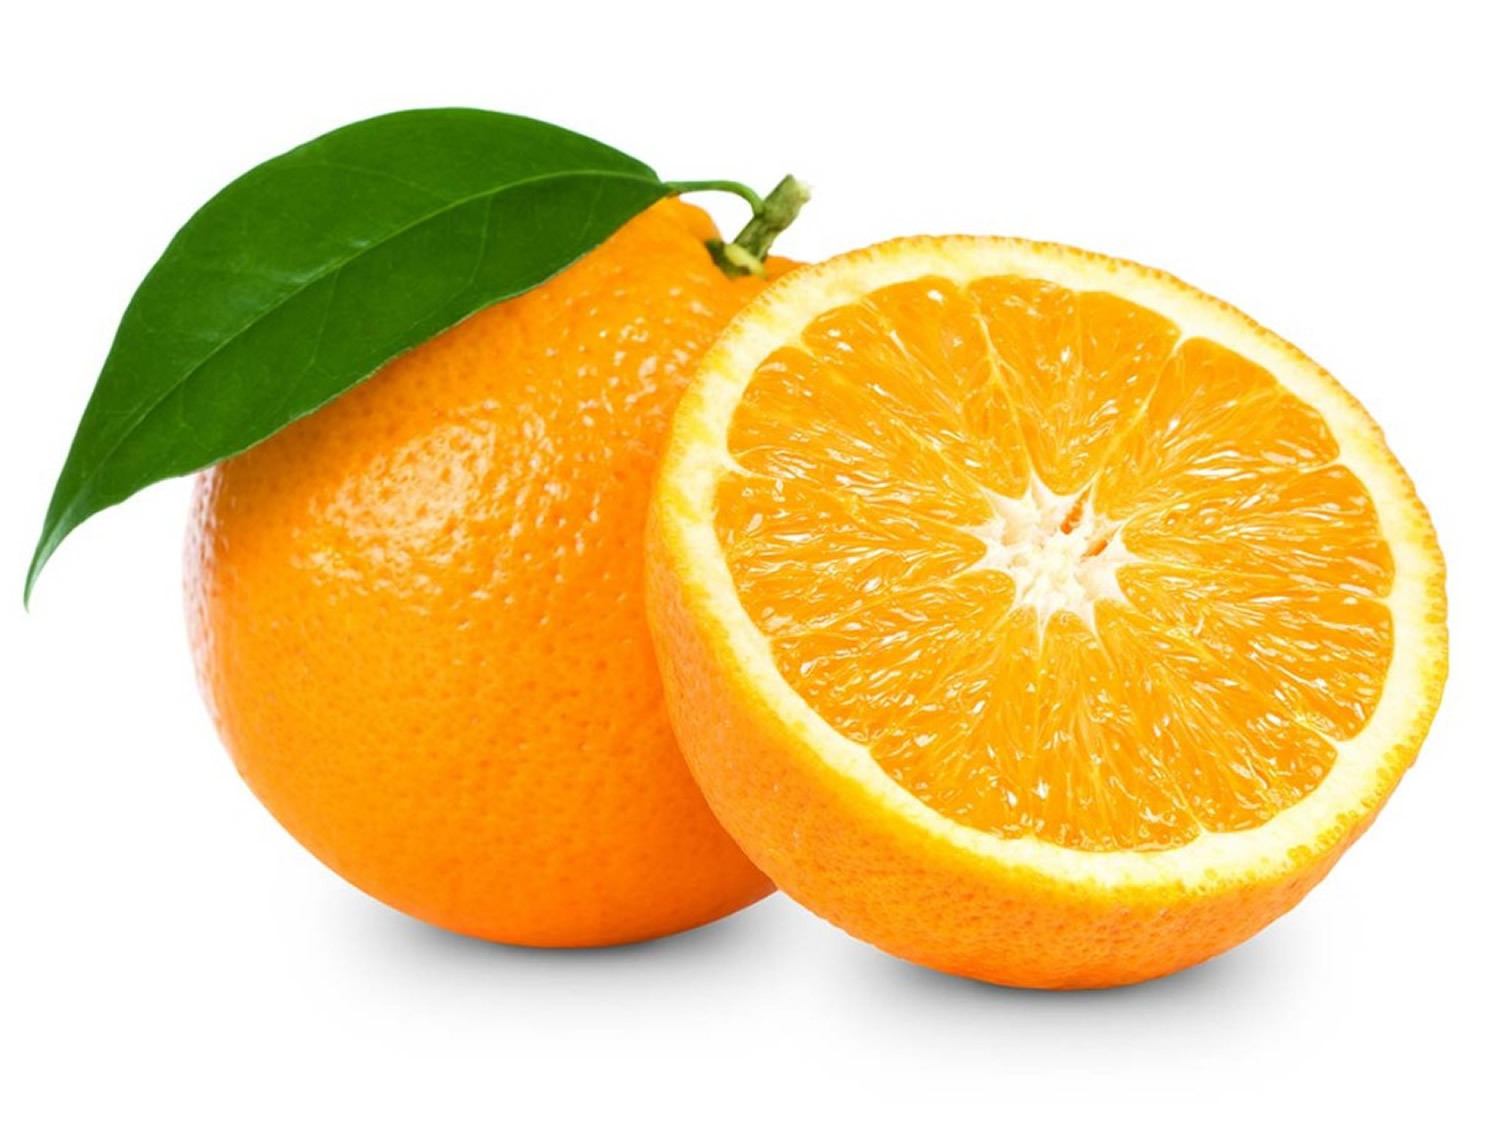orange: (172, 173, 904, 965)
